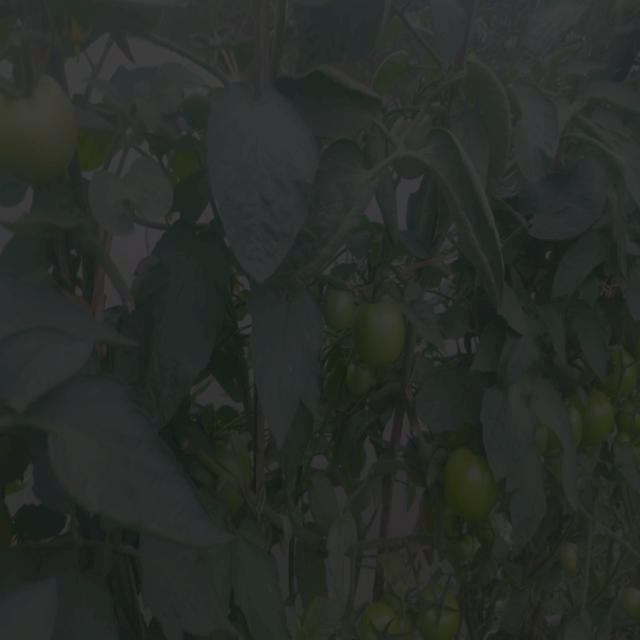tomato: (531, 334, 640, 478), (1, 66, 85, 191), (184, 426, 272, 523), (439, 440, 511, 531), (380, 110, 448, 189), (359, 298, 411, 363), (418, 585, 465, 640), (300, 594, 356, 640), (317, 280, 356, 339), (365, 594, 404, 640), (561, 538, 590, 579), (348, 369, 376, 398), (455, 537, 480, 563), (625, 581, 640, 624)
